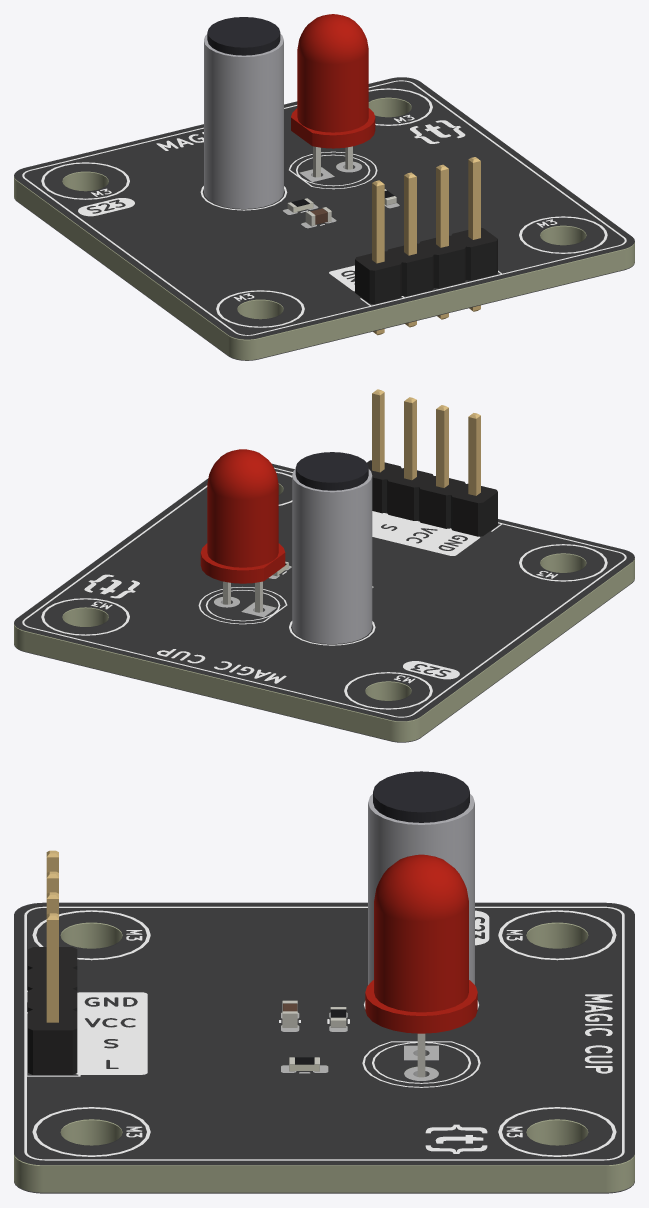
3 views of the same model, one above another, from view 1: azimuth 30°, elevation 25°; view 2: azimuth 150°, elevation 25°; view 3: azimuth 270°, elevation 25° (orthographic). The views are drawn at different scales.
Visible parts, largest first — view 1: =>[0:1:1:10], =>[0:1:1:12], SW_Tilt_SW520D_0, J1, D1, =>[0:1:1:8], SW_Tilt_SW520D_1, =>[0:1:1:11], =>[0:1:1:7]; view 2: =>[0:1:1:10], =>[0:1:1:12], SW_Tilt_SW520D_0, J1, D1, =>[0:1:1:8], SW_Tilt_SW520D_1, =>[0:1:1:11]; view 3: =>[0:1:1:10], =>[0:1:1:12], D1, =>[0:1:1:8], J1, SW_Tilt_SW520D_0, SW_Tilt_SW520D_1, =>[0:1:1:11], =>[0:1:1:7].
Part boxes in pixels (bbox=[...]): =>[0:1:1:10]: bbox=[14, 77, 634, 339]; =>[0:1:1:12]: bbox=[14, 97, 634, 360]; SW_Tilt_SW520D_0: bbox=[204, 34, 283, 208]; J1: bbox=[355, 157, 497, 335]; D1: bbox=[291, 14, 375, 177]; =>[0:1:1:8]: bbox=[22, 80, 626, 335]; SW_Tilt_SW520D_1: bbox=[207, 17, 280, 55]; =>[0:1:1:11]: bbox=[14, 198, 634, 360]; =>[0:1:1:7]: bbox=[283, 161, 399, 228]; =>[0:1:1:10]: bbox=[14, 463, 634, 721]; =>[0:1:1:12]: bbox=[14, 483, 634, 741]; SW_Tilt_SW520D_0: bbox=[292, 469, 372, 643]; J1: bbox=[367, 389, 497, 536]; D1: bbox=[200, 449, 285, 612]; =>[0:1:1:8]: bbox=[22, 467, 626, 717]; SW_Tilt_SW520D_1: bbox=[295, 452, 368, 490]; =>[0:1:1:11]: bbox=[14, 579, 634, 742]; =>[0:1:1:10]: bbox=[14, 902, 634, 1165]; =>[0:1:1:12]: bbox=[14, 922, 634, 1192]; D1: bbox=[365, 854, 477, 1077]; =>[0:1:1:8]: bbox=[24, 906, 624, 1160]; J1: bbox=[28, 850, 77, 1074]; SW_Tilt_SW520D_0: bbox=[368, 794, 474, 984]; SW_Tilt_SW520D_1: bbox=[373, 771, 469, 822]; =>[0:1:1:11]: bbox=[14, 1181, 634, 1193]; =>[0:1:1:7]: bbox=[281, 1012, 438, 1080].
Bounding box in the file's own units: 0.032 × 0.0156 × 0.032.
